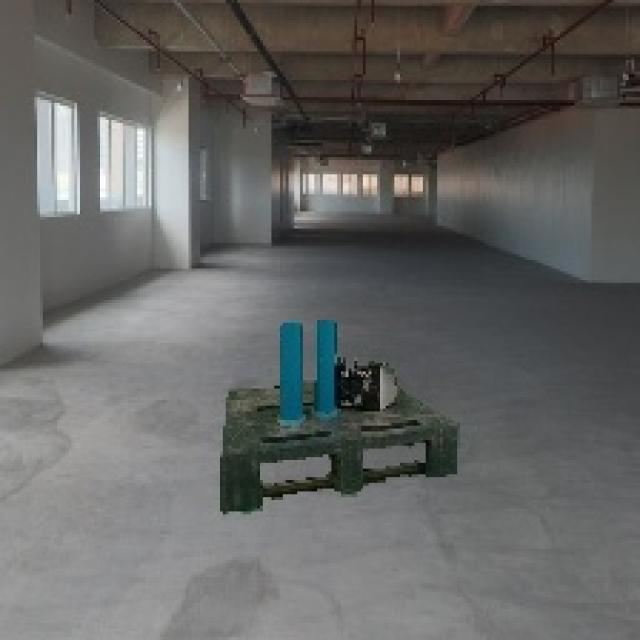block: (221, 457, 270, 515), (325, 445, 370, 496), (424, 434, 466, 481)
front: (218, 425, 470, 514)
